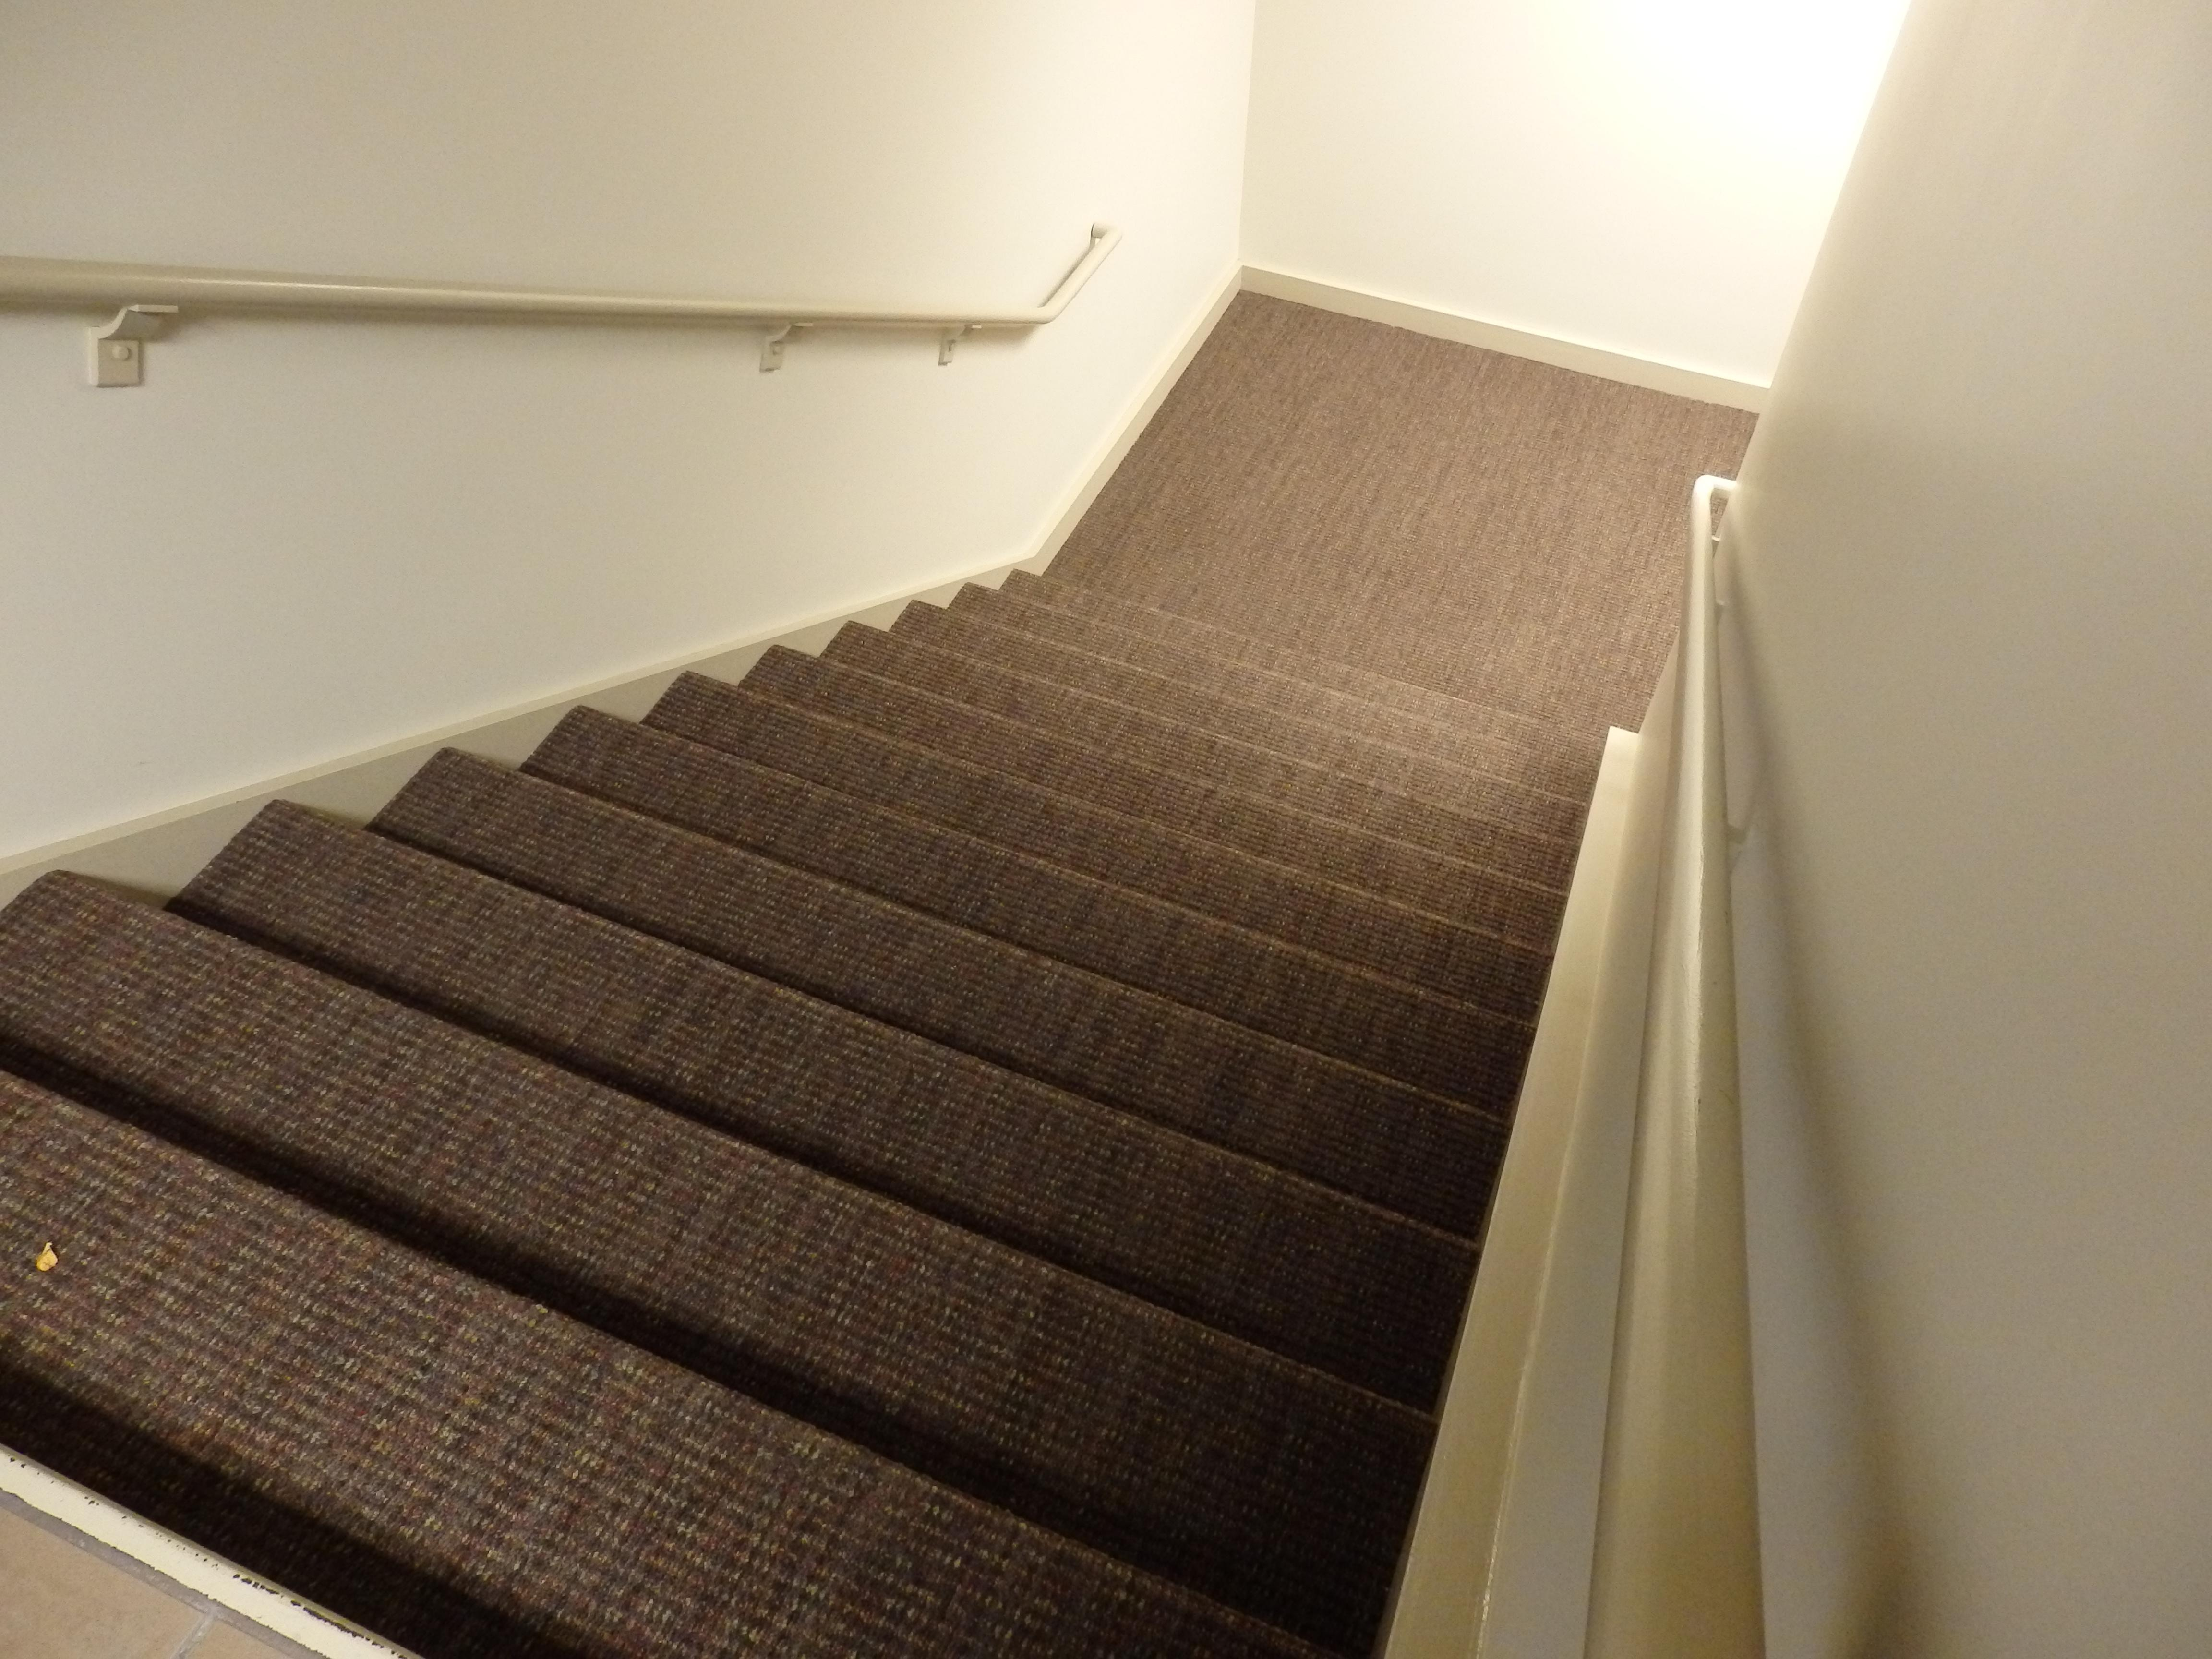stairs_down: (16, 619, 1637, 1610)
